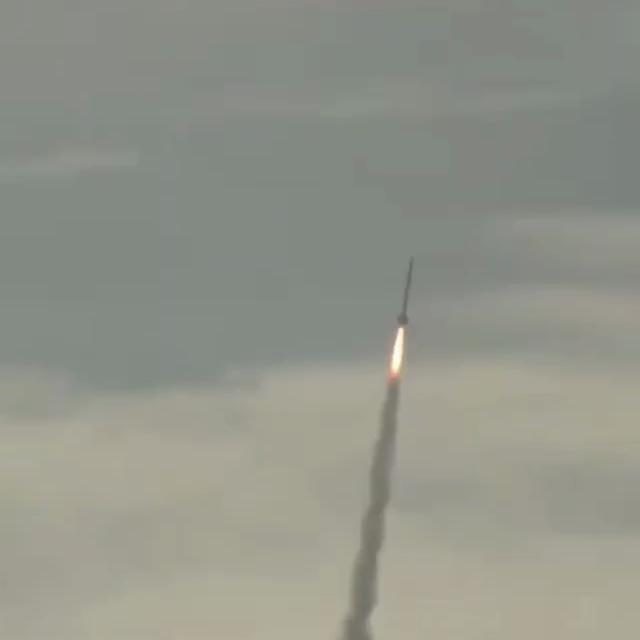smoke_trail_with_rocket: (339, 259, 414, 640)
